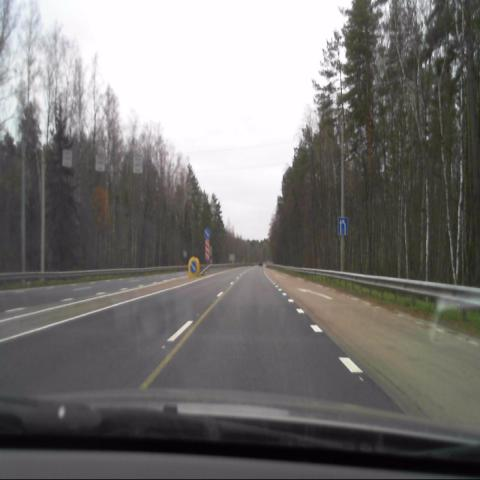4_2_1: (190, 259, 198, 273)
5_15_5: (337, 216, 348, 236)
